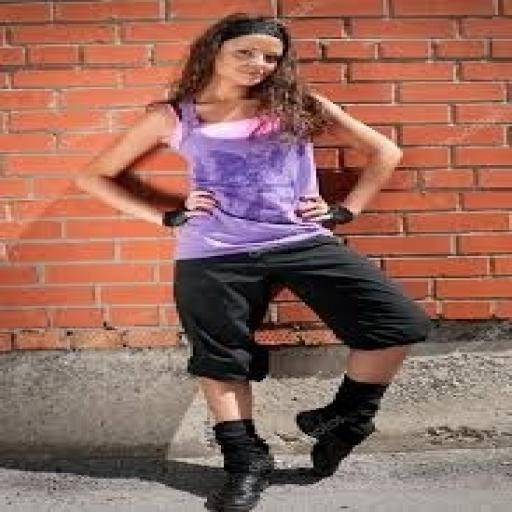dancing: (76, 11, 436, 510)
